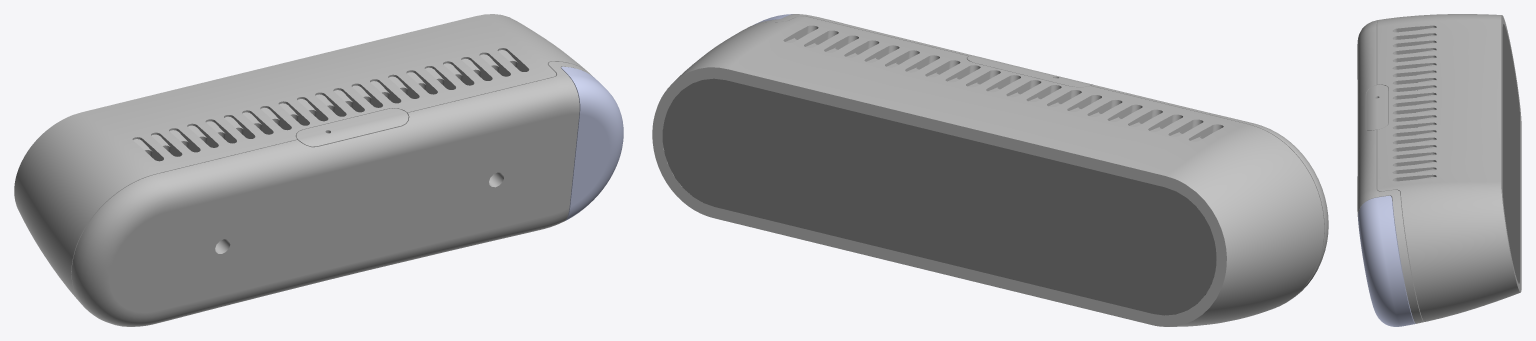
File: realsense.dae
The picture shows the model from 3 angles, left to right: view 1: azimuth 30°, elevation 25°; view 2: azimuth 150°, elevation 25°; view 3: azimuth 270°, elevation 25°; orthographic projection. The views are drawn at different scales.
Parts seen in each view (by area): view 1: mynode; view 2: mynode; view 3: mynode.
Boxes of the visible parts, x1,y1,x2,y2 form: mynode: (14,14,623,326); mynode: (652,14,1328,326); mynode: (1357,14,1521,326).
Size of the model in its own units: 0.09 by 0.026 by 0.0279.
